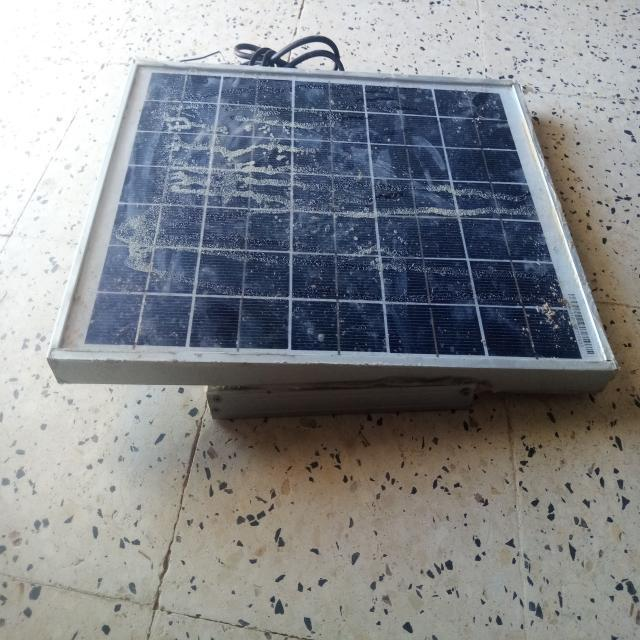Dusty: (82, 75, 586, 360)
